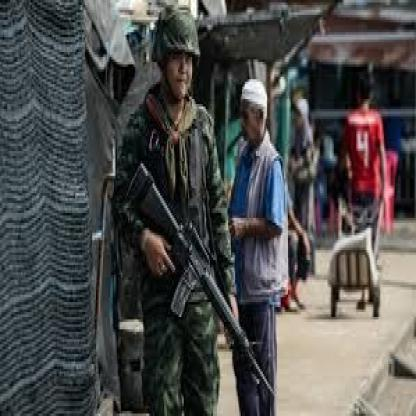Gun: (113, 139, 274, 412)
